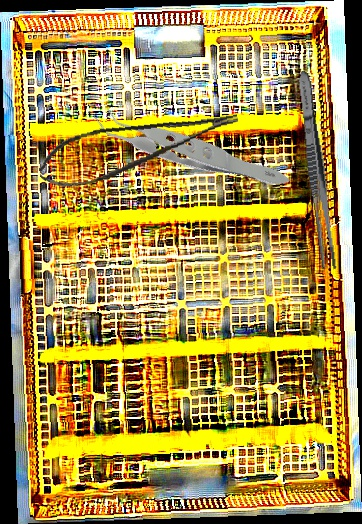Dressing Forceps: (293, 69, 340, 272)
Micro Scissor: (34, 106, 245, 194)
Tissue Forceps: (84, 37, 291, 252)
